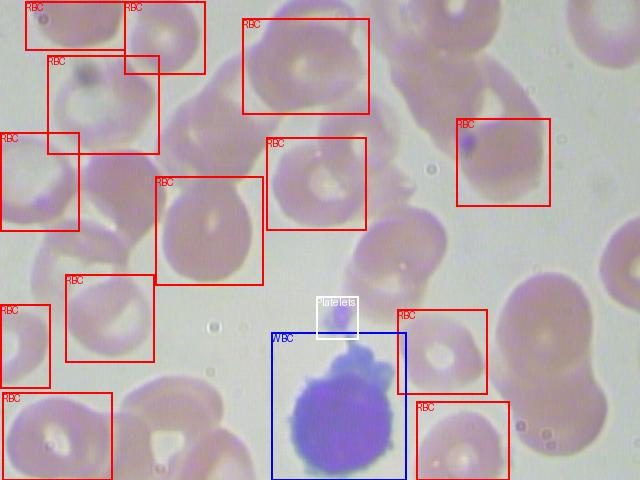Platelets: (316, 296, 358, 339)
RBC: (242, 18, 369, 114), (155, 176, 263, 285), (47, 55, 159, 154), (2, 392, 112, 480), (266, 137, 366, 230), (456, 118, 550, 206), (65, 274, 154, 362), (0, 132, 79, 231), (397, 309, 487, 394), (416, 401, 509, 480), (124, 1, 205, 74), (25, 1, 125, 50), (0, 304, 50, 388)
WBC: (271, 332, 406, 480)
